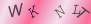K: (28, 5, 40, 18)
L: (72, 4, 82, 16)
N: (54, 4, 66, 19)
T: (75, 6, 91, 19)
W: (8, 2, 24, 19)
